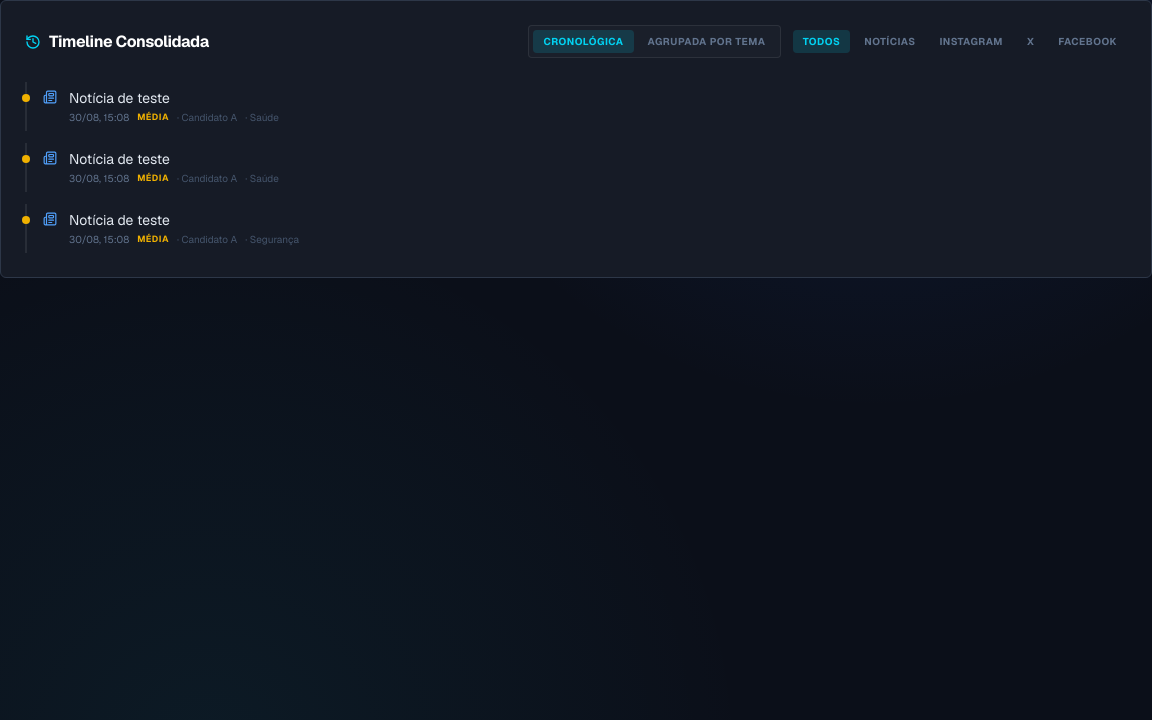
OverviewTimeline › alterna para o modo agrupado por tema ao clicar
Click the button "Agrupada por tema" at (707, 42), box [638,30,776,53]
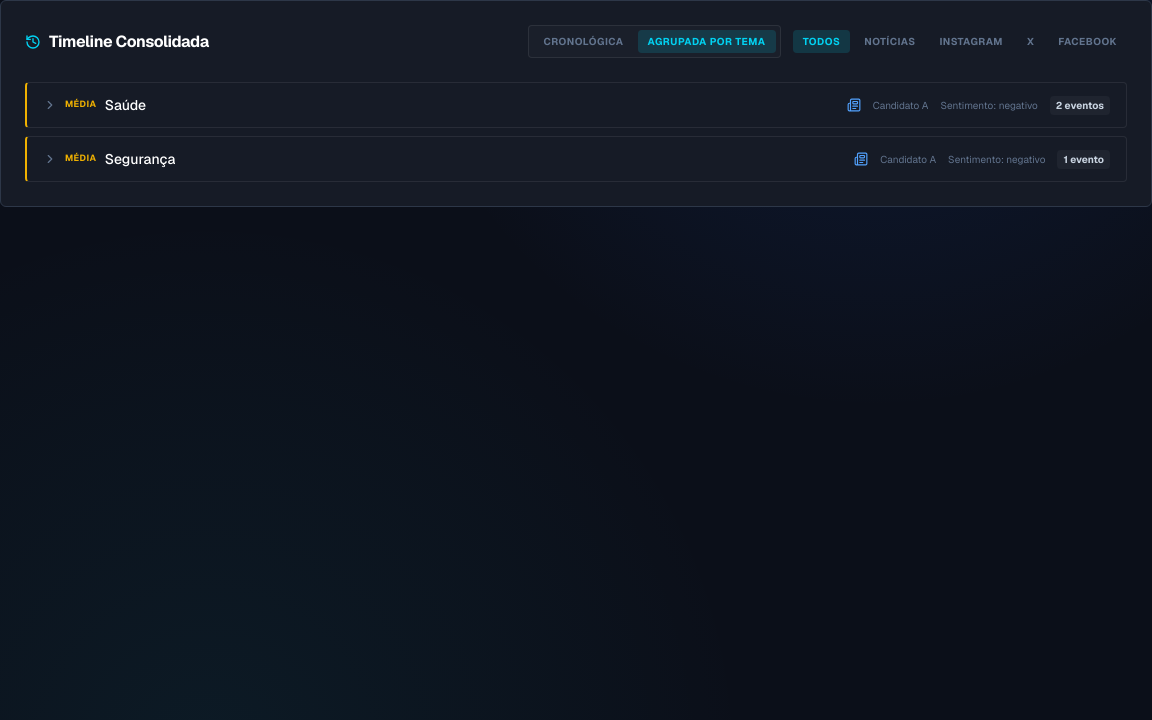
expect the text "Saúde" is shown: met, box [105,95,146,115]
expect the text "2 eventos" is shown: met, box [1050,96,1110,114]
